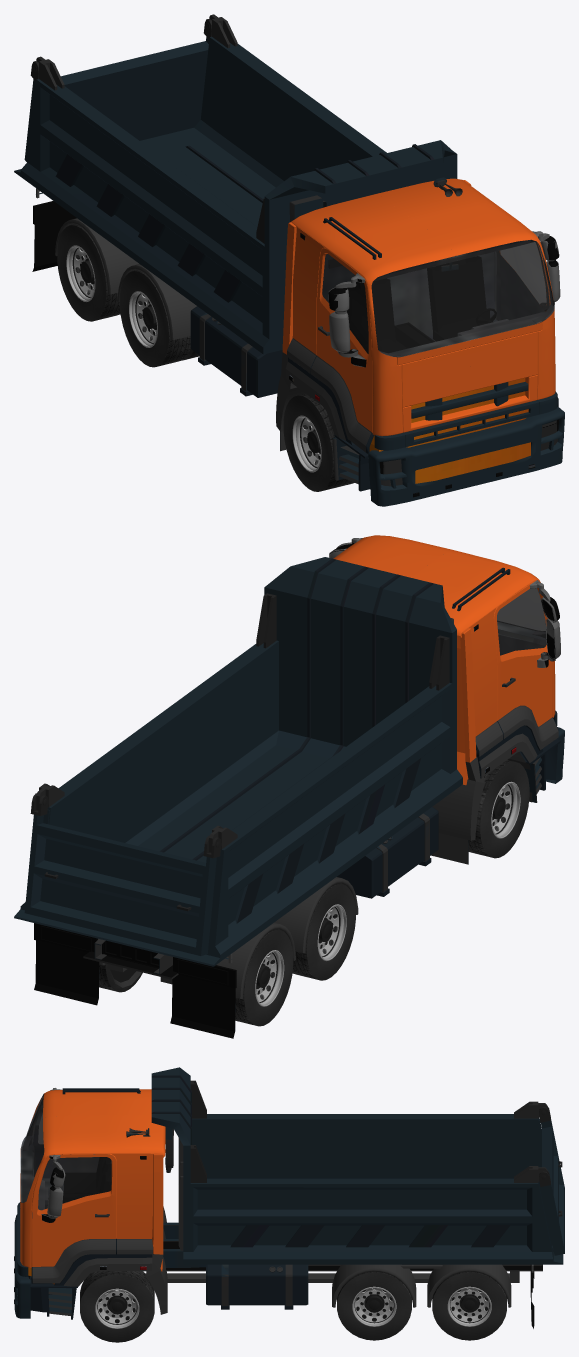
File: Truck_4.FBX
The picture shows the model from 3 angles, top to bottom: view 1: azimuth 30°, elevation 25°; view 2: azimuth 150°, elevation 25°; view 3: azimuth 270°, elevation 25°; orthographic projection. The views are drawn at different scales.
Visible parts, largest first — view 1: Body, Back, Wheel_BR 1, Wheel_FR, Wheel_BR 2; view 2: Back, Body, Wheel_FR, Wheel_BR 1, Wheel_BR 2, Wheel_BL 2; view 3: Back, Body, Wheel_FL, Wheel_BL 2, Wheel_BL 1.
Boxes of the visible parts, bbox=[...] form: Body: bbox=[32, 177, 564, 506]; Back: bbox=[14, 14, 457, 354]; Wheel_BR 1: bbox=[119, 270, 199, 367]; Wheel_FR: bbox=[283, 393, 354, 491]; Wheel_BR 2: bbox=[57, 224, 120, 321]; Back: bbox=[14, 557, 462, 966]; Body: bbox=[34, 535, 564, 1038]; Wheel_FR: bbox=[468, 760, 529, 858]; Wheel_BR 1: bbox=[292, 883, 355, 980]; Wheel_BR 2: bbox=[235, 929, 293, 1026]; Wheel_BL 2: bbox=[99, 963, 142, 992]; Back: bbox=[151, 1067, 564, 1272]; Body: bbox=[14, 1088, 542, 1328]; Wheel_FL: bbox=[80, 1271, 154, 1342]; Wheel_BL 2: bbox=[432, 1271, 506, 1340]; Wheel_BL 1: bbox=[337, 1271, 411, 1340].
Bounding box in the file's own units: 73.82 × 86.48 × 204.
